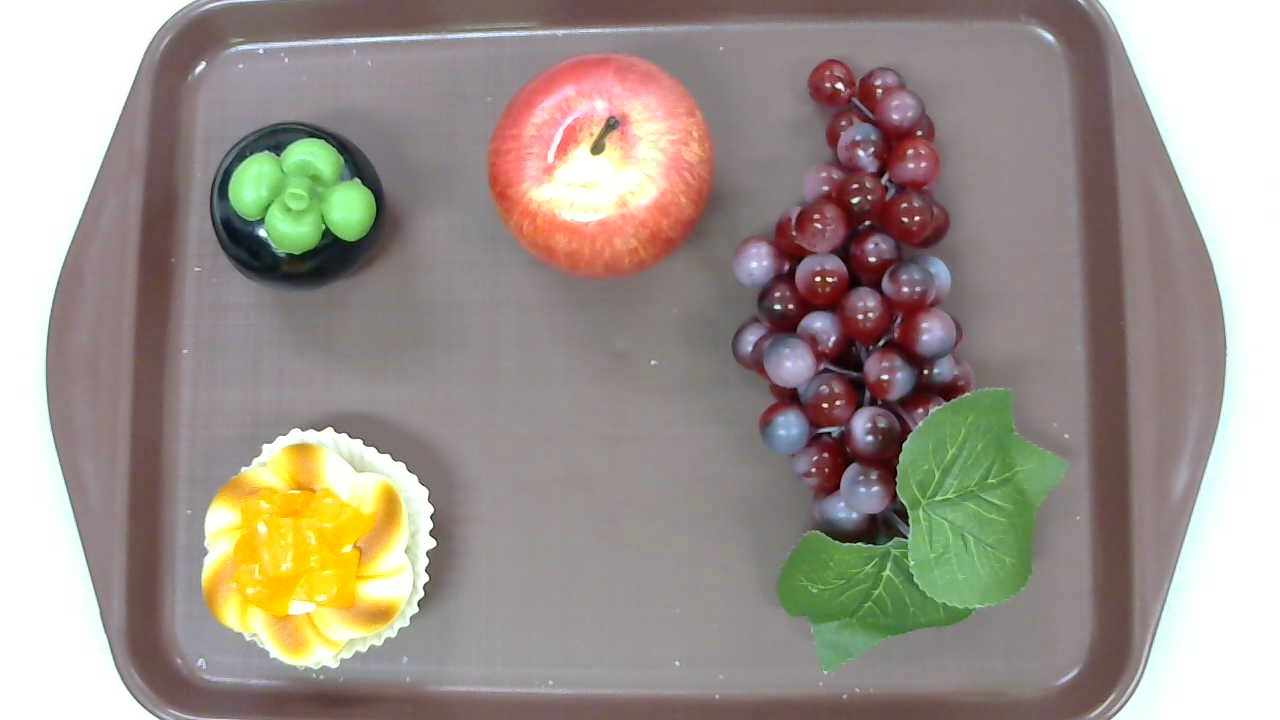grape: (730, 59, 1070, 677)
mango tart: (200, 426, 438, 670)
mangosteen: (210, 123, 385, 291)
red apple: (486, 50, 717, 283)
